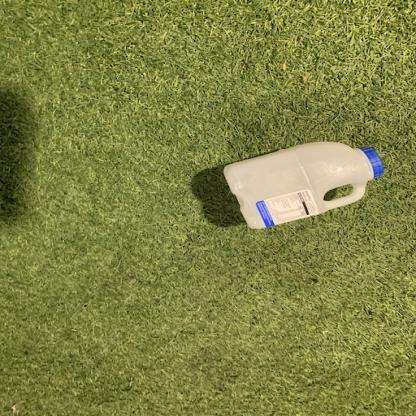trash: (223, 140, 386, 231)
